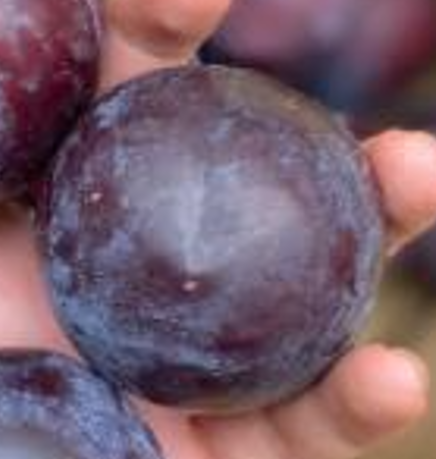plum_A: (35, 64, 383, 416)
